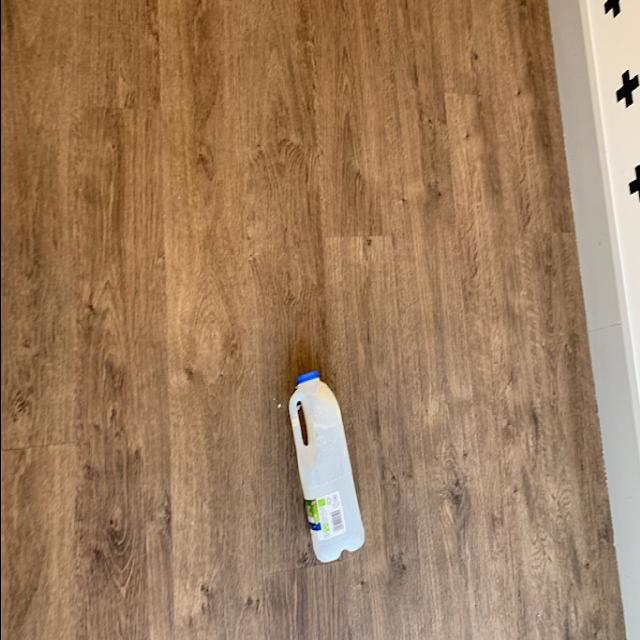HDPEM: (286, 368, 368, 572)
